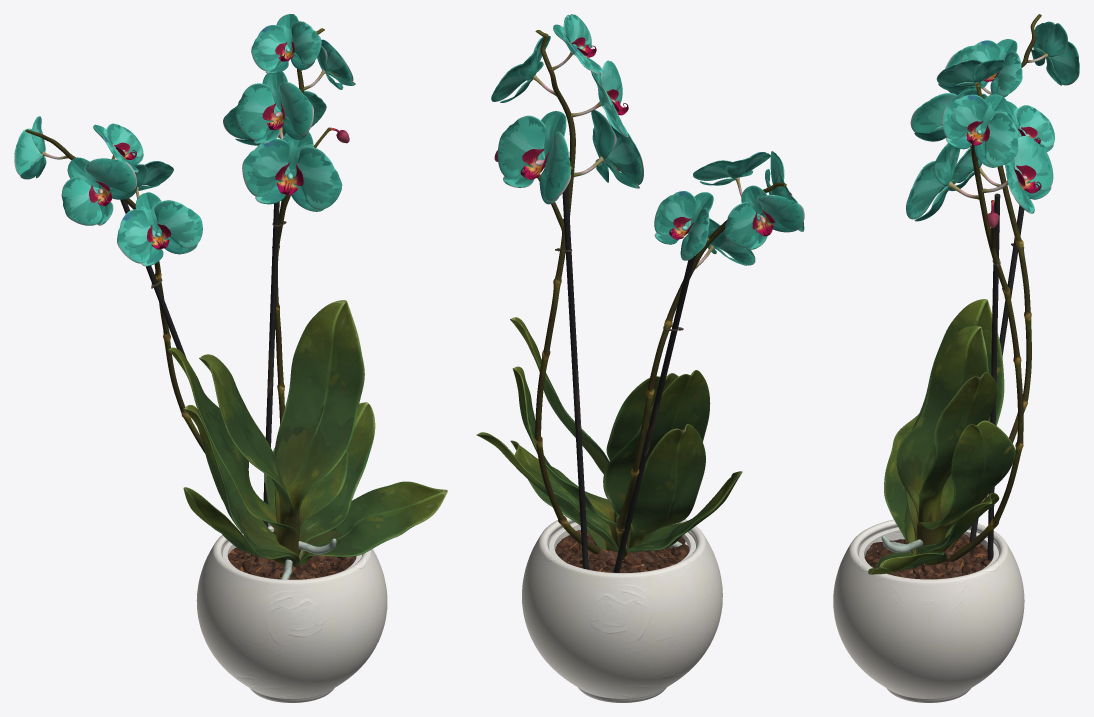
The model's file is PlantOrchid001_Blender_Cycles.glb.
The picture shows the model from 3 angles, left to right: view 1: azimuth 30°, elevation 25°; view 2: azimuth 150°, elevation 25°; view 3: azimuth 270°, elevation 25°; orthographic projection. The views are drawn at different scales.
Visible parts, largest first — view 1: PlantOrchid001, PlantOrchidVase001; view 2: PlantOrchid001, PlantOrchidVase001; view 3: PlantOrchid001, PlantOrchidVase001.
Boxes of the visible parts, x1,y1,x2,y2 form: PlantOrchid001: [14, 14, 447, 579]; PlantOrchidVase001: [196, 523, 387, 702]; PlantOrchid001: [476, 14, 804, 572]; PlantOrchidVase001: [522, 516, 722, 702]; PlantOrchid001: [868, 14, 1079, 574]; PlantOrchidVase001: [833, 519, 1024, 702].
Size of the model in its own units: 0.2491 by 0.4276 by 0.1489.
1 material, 1 textured.
